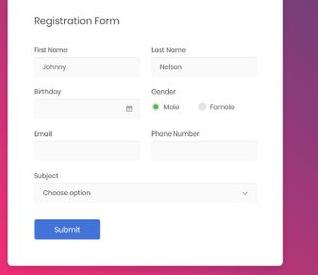button: (33, 218, 102, 241)
field: (31, 181, 258, 204), (32, 137, 140, 163), (146, 137, 258, 162), (33, 95, 144, 120), (32, 54, 140, 78), (149, 54, 257, 75)
field_with_label: (30, 172, 260, 206), (30, 129, 143, 165), (30, 87, 147, 121), (29, 45, 142, 80), (145, 129, 261, 163), (147, 45, 261, 77)
radio: (151, 101, 161, 113), (197, 102, 207, 111)
radio_with_label: (197, 100, 240, 114), (150, 100, 182, 115)
